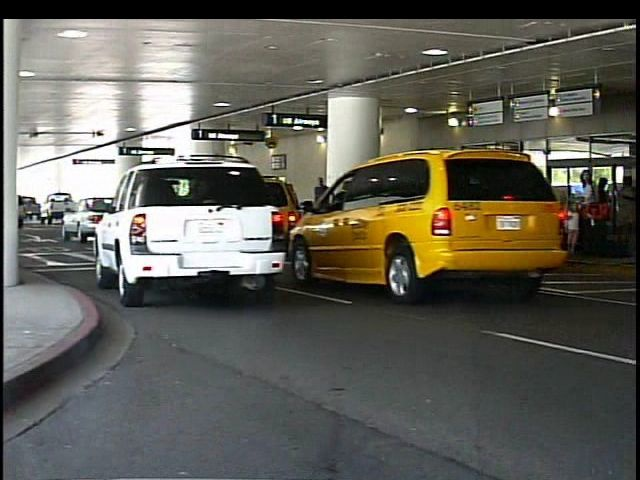person: (499, 169, 528, 260), (574, 169, 602, 261), (312, 172, 339, 248), (595, 175, 615, 245)
